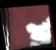dent: (1, 0, 54, 50)
